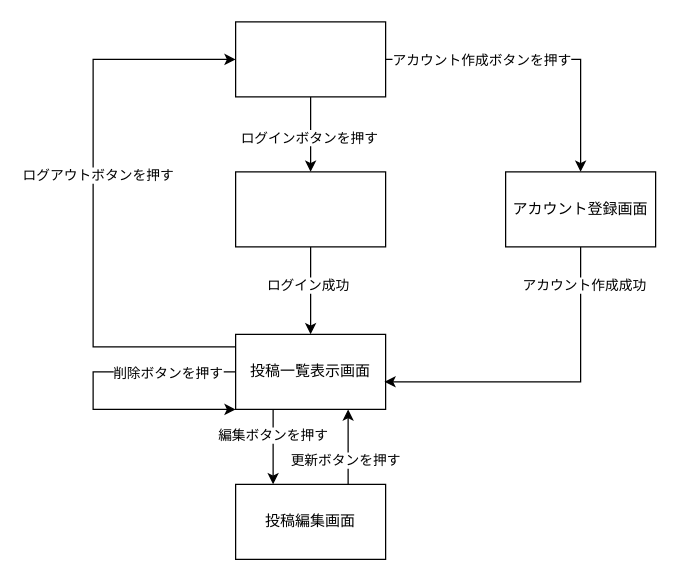
This 678x581 diagram has some shape labels left out. The shapes that lost their labels are listed below. From the top down, each one's centre as x and y in pixels, then its label:
At (x=310, y=59): "トップページ画面".
At (x=310, y=209): "ログイン画面".
